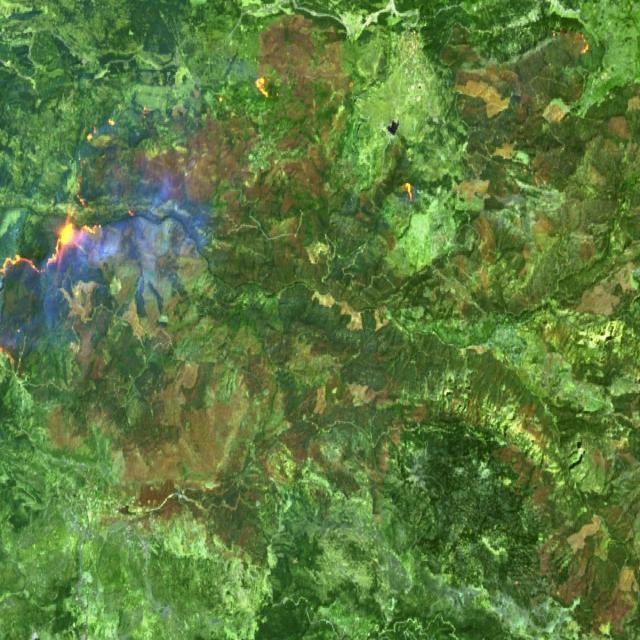fire: (0, 207, 114, 295), (241, 61, 286, 115), (392, 167, 429, 218)
